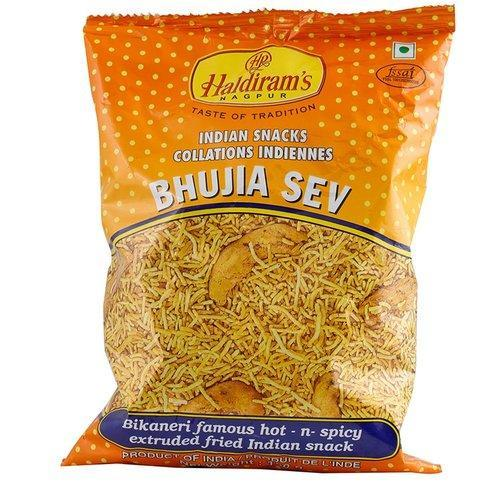VEG: (391, 39, 415, 60)
